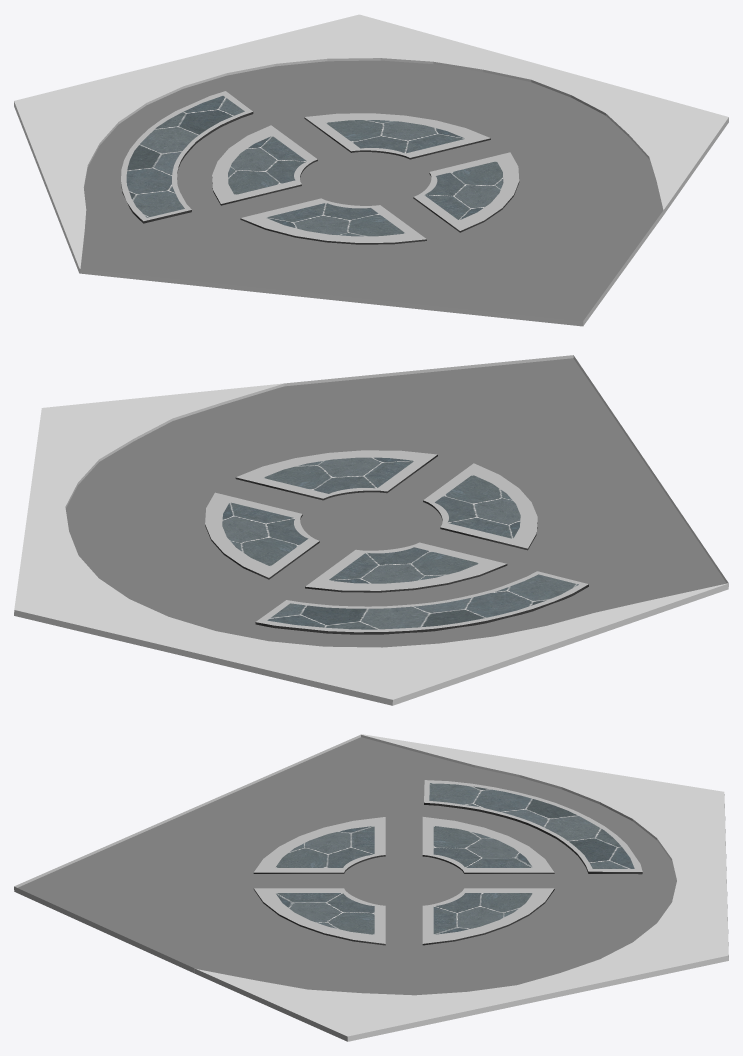
File: Plaza2.fbx
3 views of the same model, one above another, from view 1: azimuth 30°, elevation 25°; view 2: azimuth 150°, elevation 25°; view 3: azimuth 270°, elevation 25° (orthographic). The views are drawn at different scales.
Parts seen in each view (by area): view 1: Cylinder.001, cerca, calles laterales.001, center.001, center.002, center.004, center.003, calles laterales.003; view 2: Cylinder.001, cerca, calles laterales.001, center.004, center.003, center.001, center.002, calles laterales.003; view 3: Cylinder.001, cerca, calles laterales.001, center.001, center.004, center.003, center.002, calles laterales.003.
Boxes of the visible parts, x1,y1,x2,y2 form: Cylinder.001: [80, 60, 662, 320]; cerca: [14, 14, 728, 326]; calles laterales.001: [126, 96, 244, 217]; center.001: [304, 113, 490, 159]; center.002: [240, 198, 426, 244]; center.004: [413, 152, 519, 232]; center.003: [212, 125, 317, 205]; calles laterales.003: [121, 91, 253, 223]; Cylinder.001: [65, 358, 726, 647]; cerca: [14, 355, 728, 705]; calles laterales.001: [267, 574, 578, 629]; center.004: [235, 450, 437, 500]; center.003: [305, 542, 507, 592]; center.001: [205, 492, 319, 579]; center.002: [423, 463, 537, 550]; calles laterales.003: [255, 571, 588, 634]; Cylinder.001: [17, 737, 676, 995]; cerca: [14, 734, 728, 1041]; calles laterales.001: [429, 783, 634, 868]; center.001: [422, 888, 554, 945]; center.004: [253, 888, 385, 945]; center.003: [422, 817, 554, 873]; center.002: [253, 817, 385, 873]; calles laterales.003: [424, 780, 642, 874].
Bounding box in the file's own units: 50018 × 412 × 49960.
